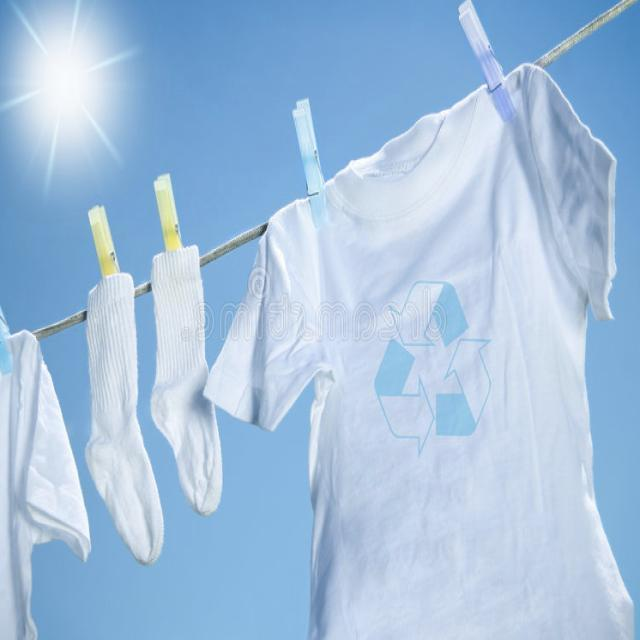clothes: (240, 87, 573, 640)
